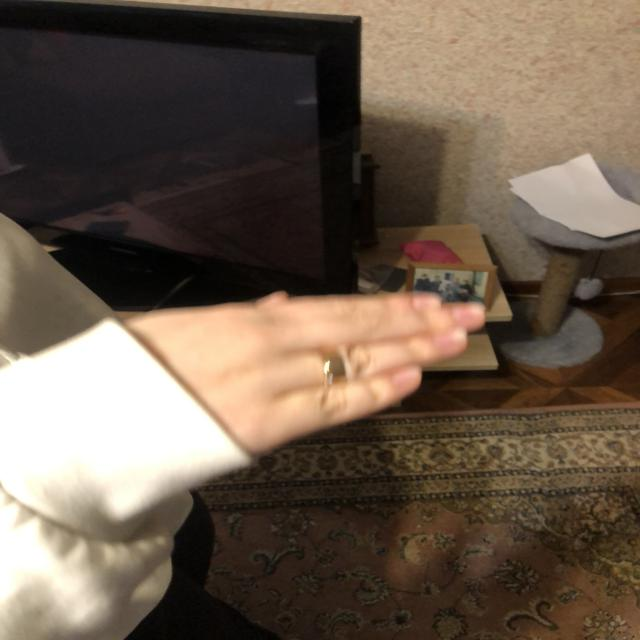paper: (153, 294, 488, 438)
